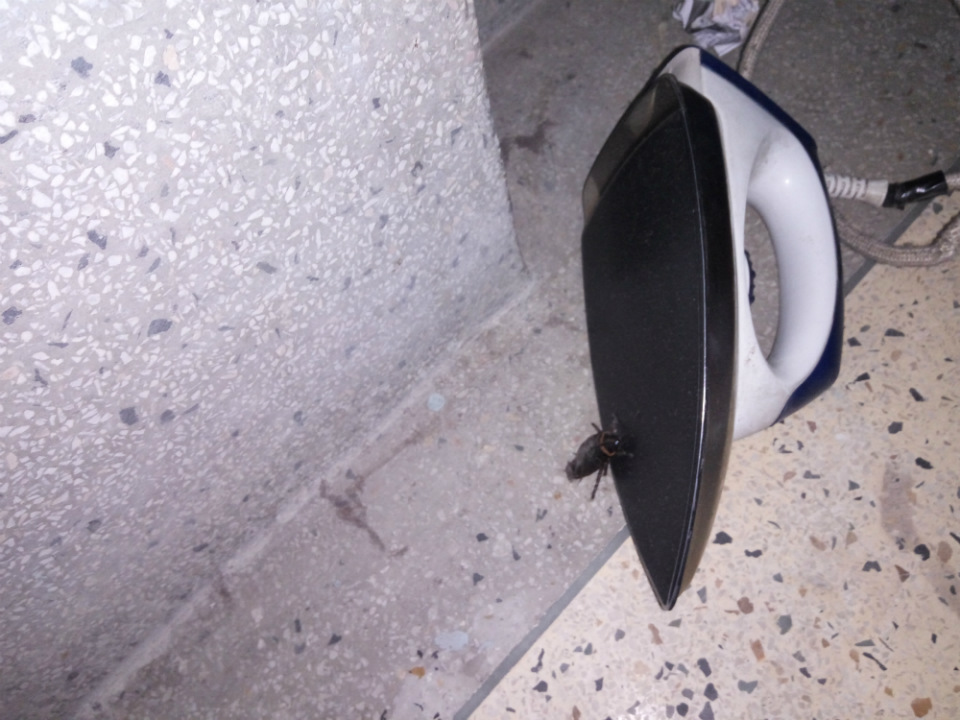cockroach: (539, 414, 658, 506)
